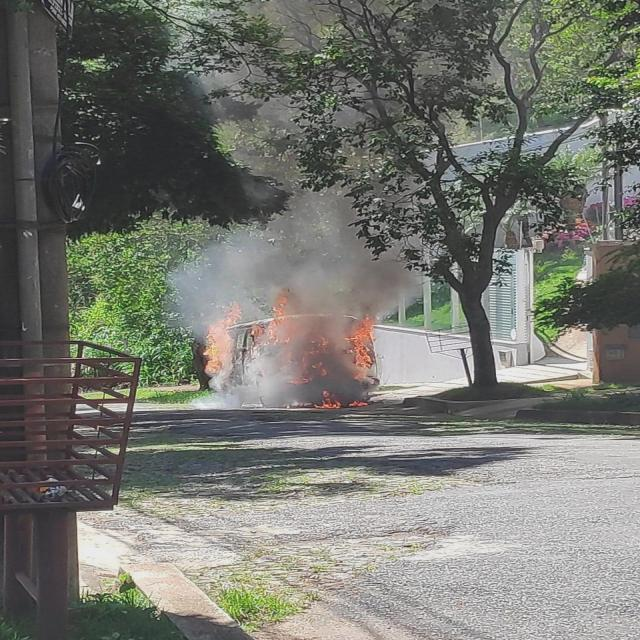Fire: (202, 303, 244, 375), (254, 284, 292, 346), (289, 332, 331, 384), (346, 320, 381, 381), (318, 388, 342, 408), (349, 399, 370, 406)
